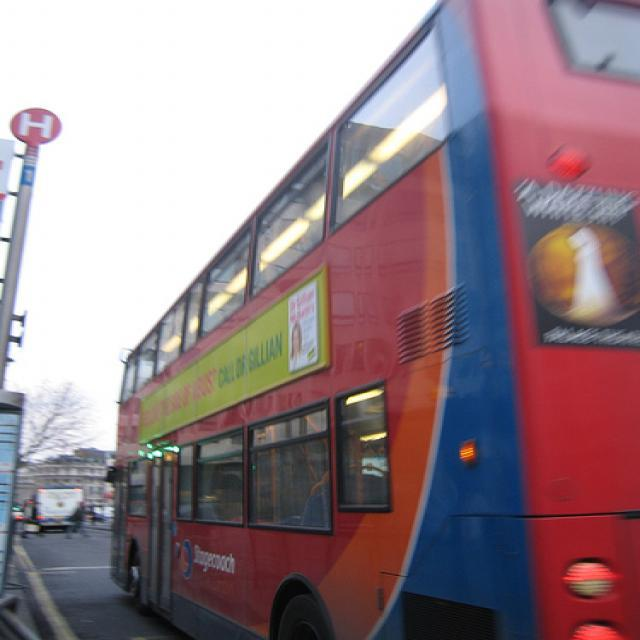bus: (108, 2, 636, 639)
